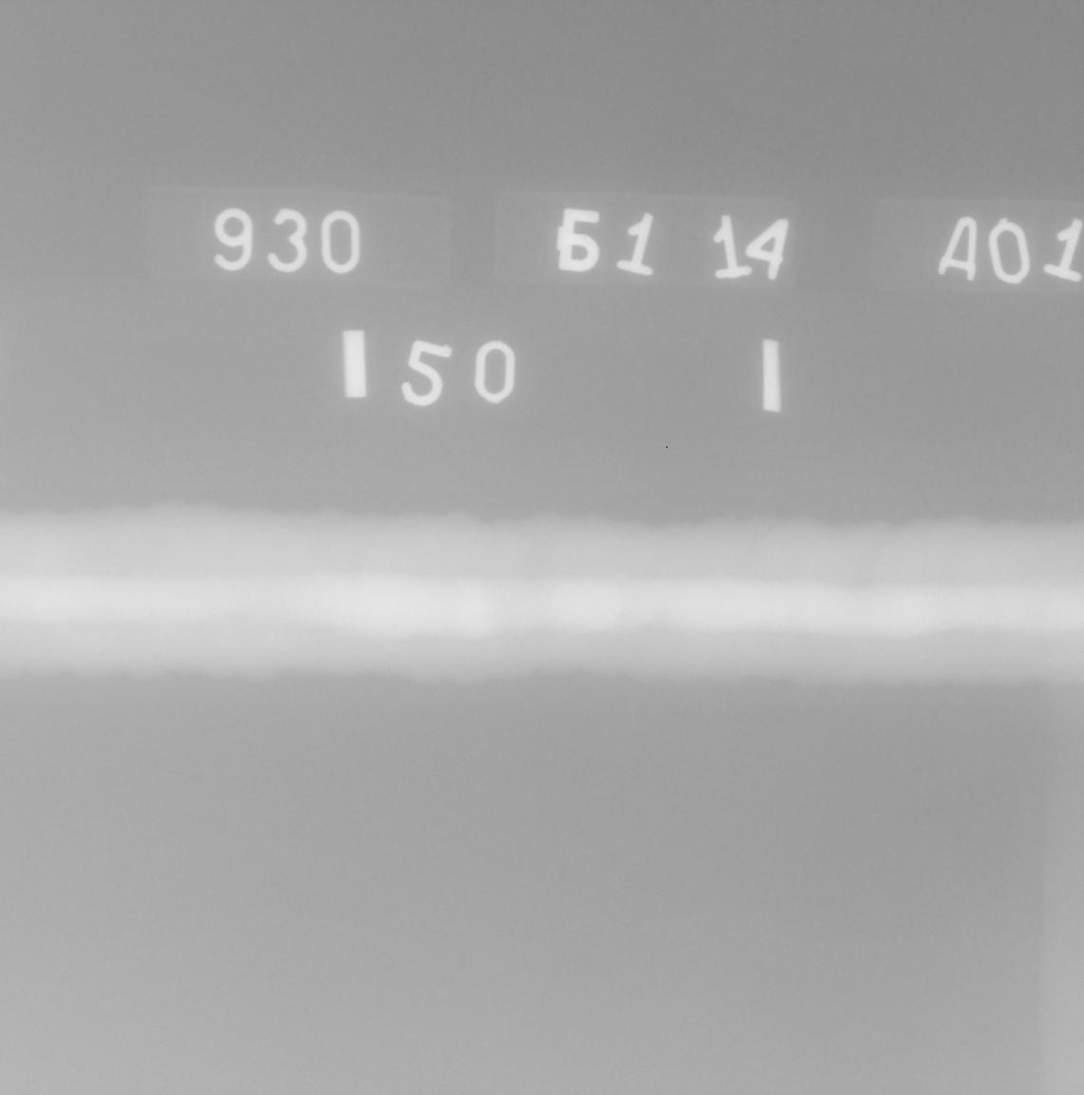Pore/Porosity: (1018, 578, 1024, 583)
